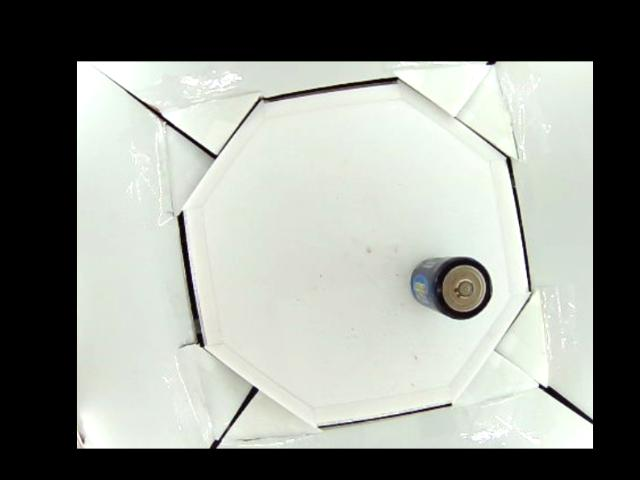Battery: (410, 257, 493, 320)
